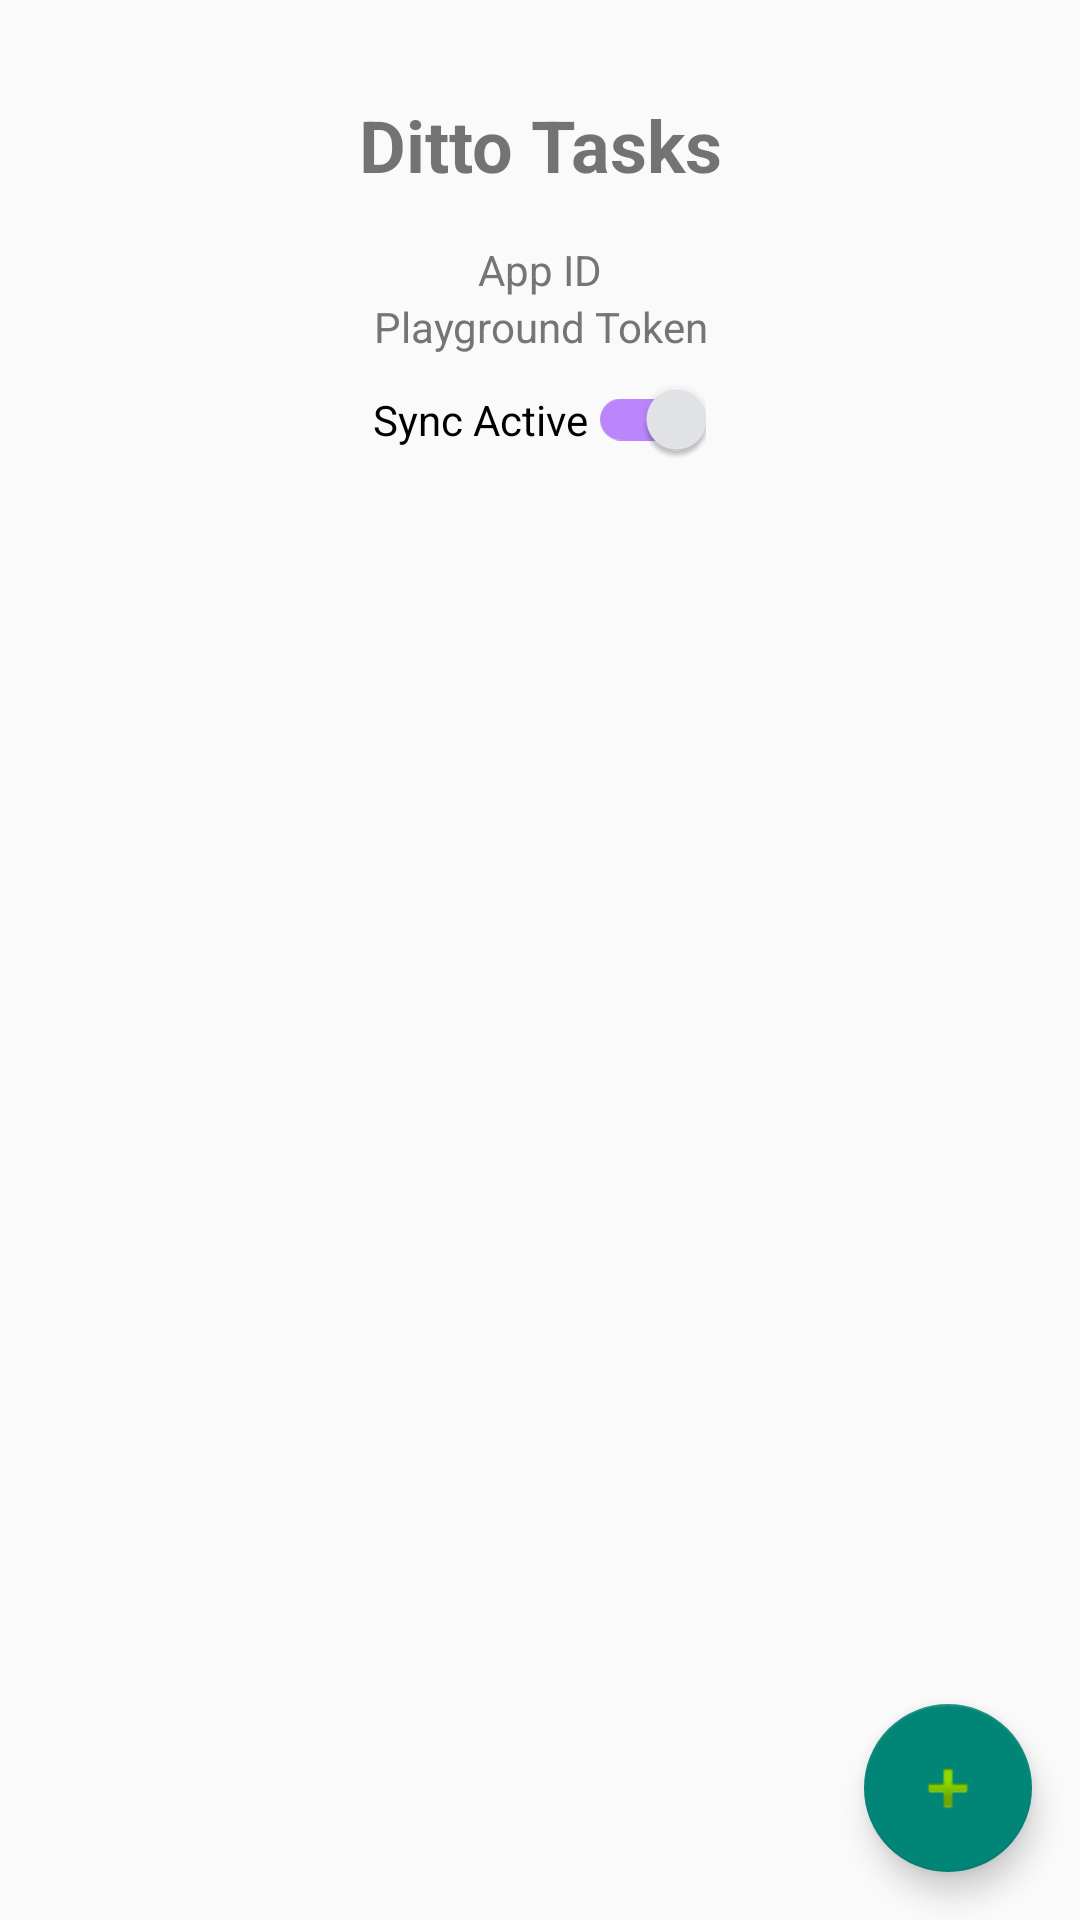

Named icons in this screenshot (1080 x 1920) and their centers, (x=x, y=y):
Add Todo: (x=948, y=1788)
